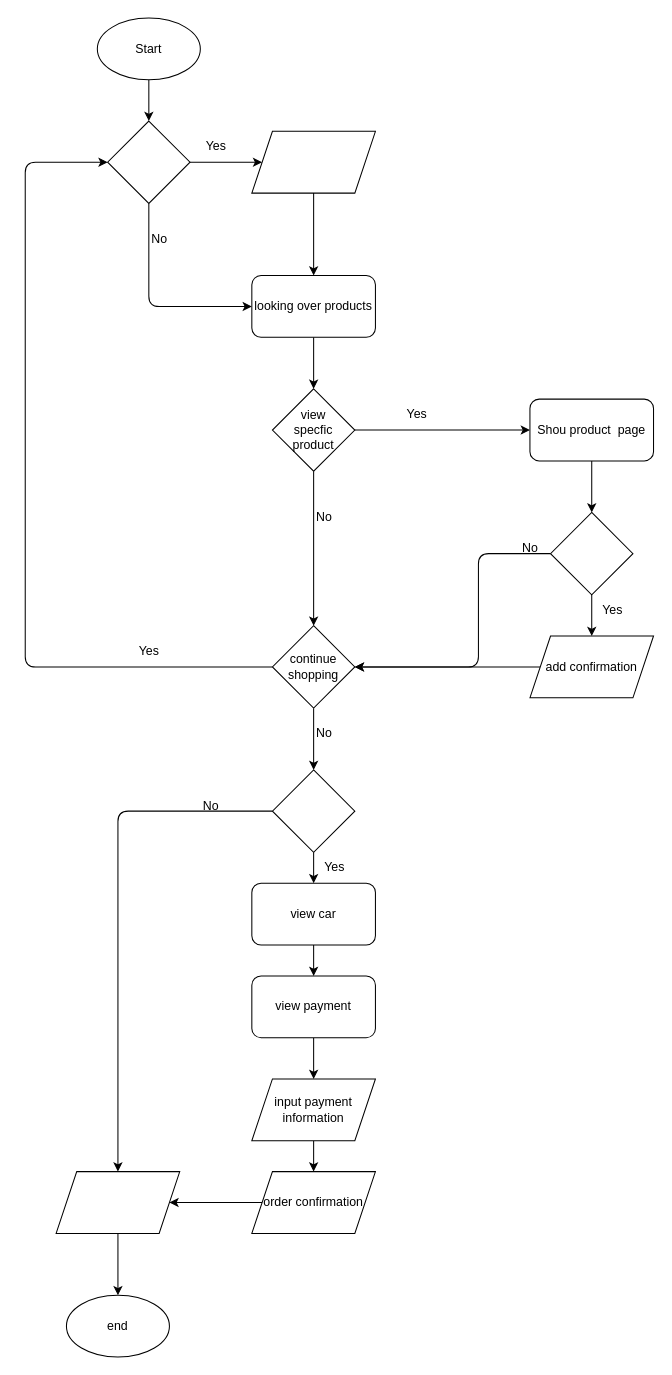
Image size: 672x1375. Some labels were removed from this diagram. The box of each missing label's shape, as (x1, y1, x2, y2) in pixels:
add to car: (550, 511, 633, 595)
check out: (271, 769, 355, 852)
Input the keyword for search: (251, 130, 375, 193)
leave website: (55, 1171, 180, 1233)
Search: (107, 120, 190, 203)
